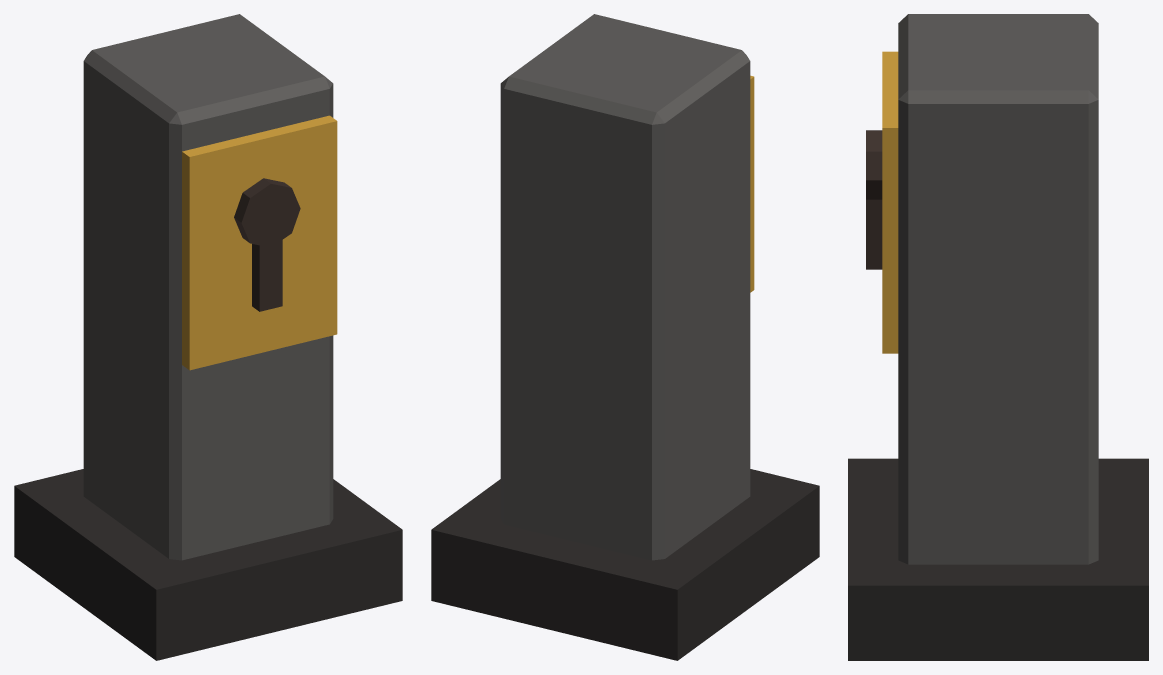
File: TrainKeyhole.fbx
The picture shows the model from 3 angles, left to right: view 1: azimuth 30°, elevation 25°; view 2: azimuth 150°, elevation 25°; view 3: azimuth 270°, elevation 25°; orthographic projection. The views are drawn at different scales.
Parts seen in each view (by area): view 1: TrainKeyhole; view 2: TrainKeyhole; view 3: TrainKeyhole.
Boxes of the visible parts, x1,y1,x2,y2 form: TrainKeyhole: [14, 14, 402, 660]; TrainKeyhole: [431, 14, 819, 660]; TrainKeyhole: [848, 14, 1148, 660].
Bounding box in the file's own units: 1.5 × 3 × 1.5.
